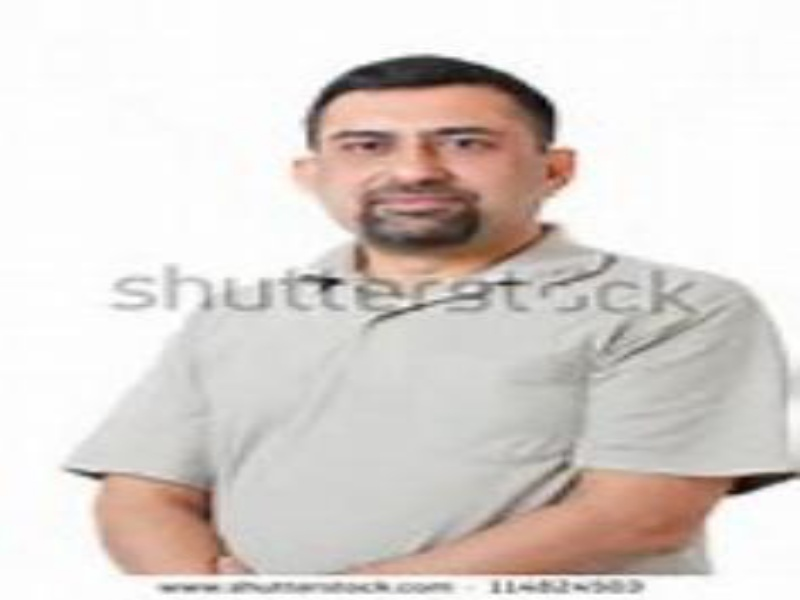TsisyArotava: (280, 37, 601, 288)
